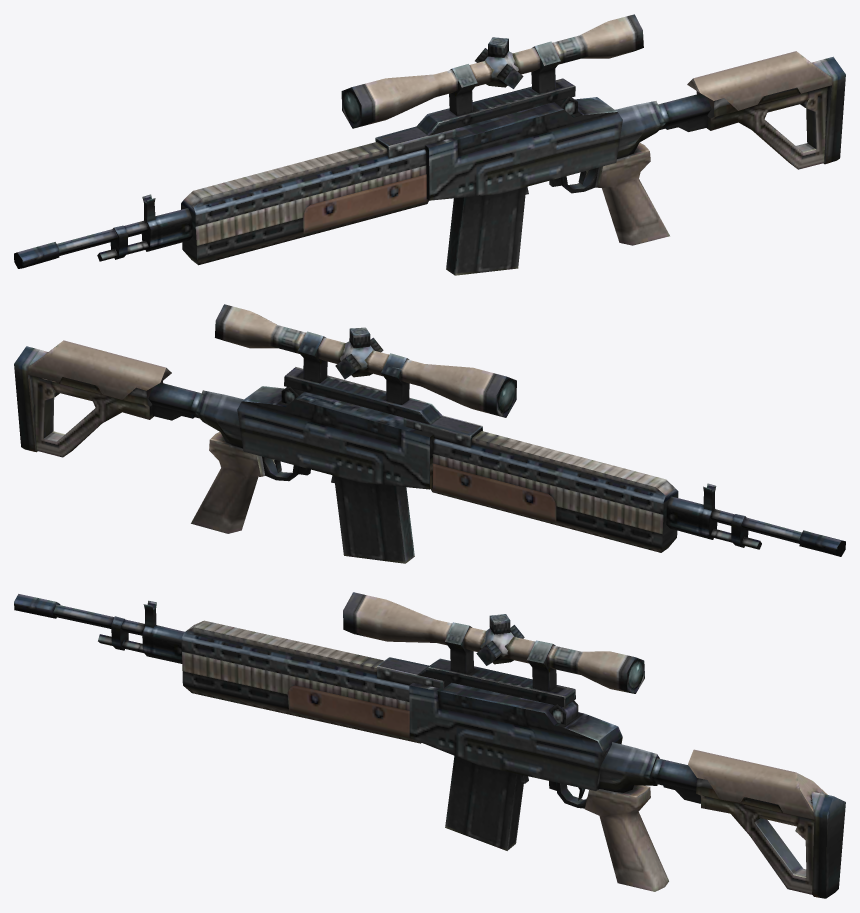
Rendered from free_fire_gun_woodpecker.glb.
3 views of the same model, one above another, from view 1: azimuth 30°, elevation 25°; view 2: azimuth 150°, elevation 25°; view 3: azimuth 330°, elevation 25° (orthographic).
Parts seen in each view (by area): view 1: Object_2; view 2: Object_2; view 3: Object_2.
Boxes of the visible parts, box(x1,y1,x2,y2) form: Object_2: box(14, 14, 845, 275); Object_2: box(14, 304, 845, 563); Object_2: box(14, 592, 845, 898).
Size of the model in its own units: 1.92 by 0.5159 by 0.1159.
Materials: 1 (1 with a texture image).
